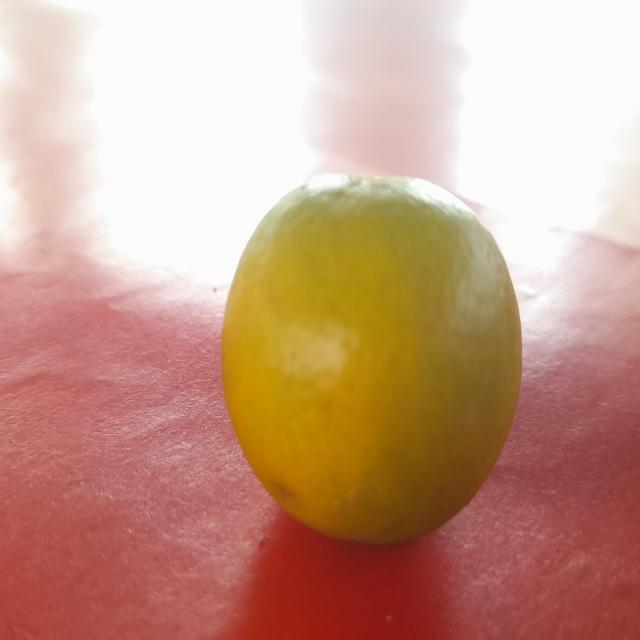greening: (223, 172, 516, 548)
